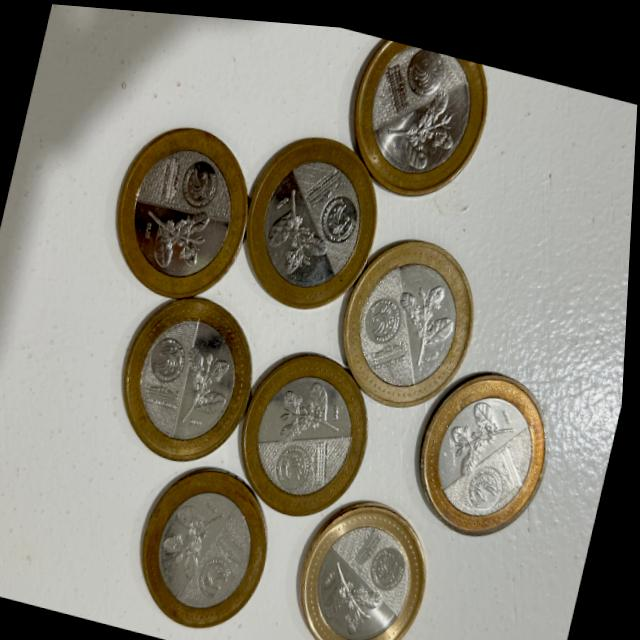20_New_Back: (385, 75, 463, 165), (263, 179, 338, 271), (274, 364, 354, 446), (163, 486, 232, 576), (138, 196, 210, 276), (394, 272, 462, 353), (178, 334, 241, 421), (320, 554, 393, 629), (450, 392, 518, 472)
